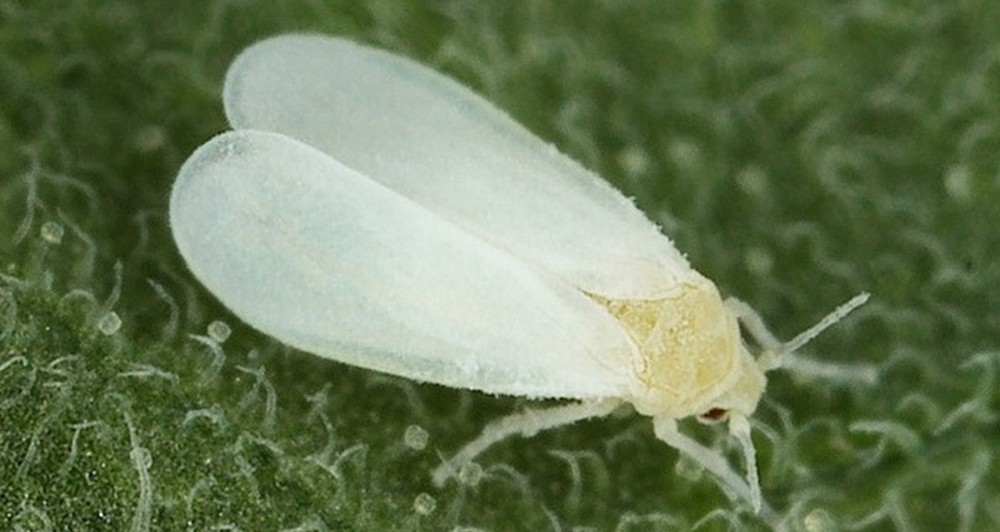Mosca Blanca: (164, 30, 881, 523)
